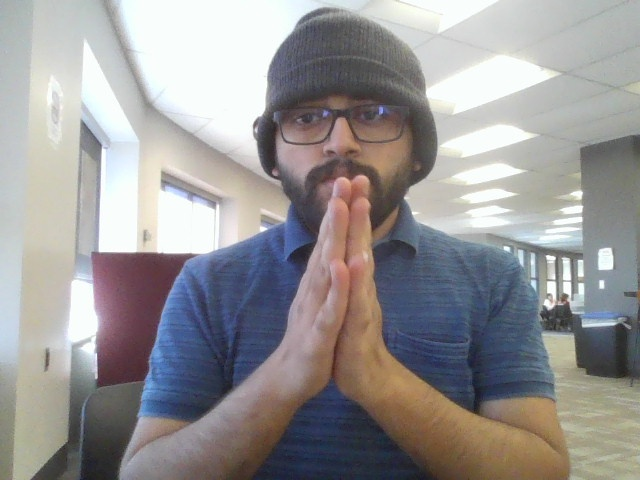start: (265, 167, 396, 413)
